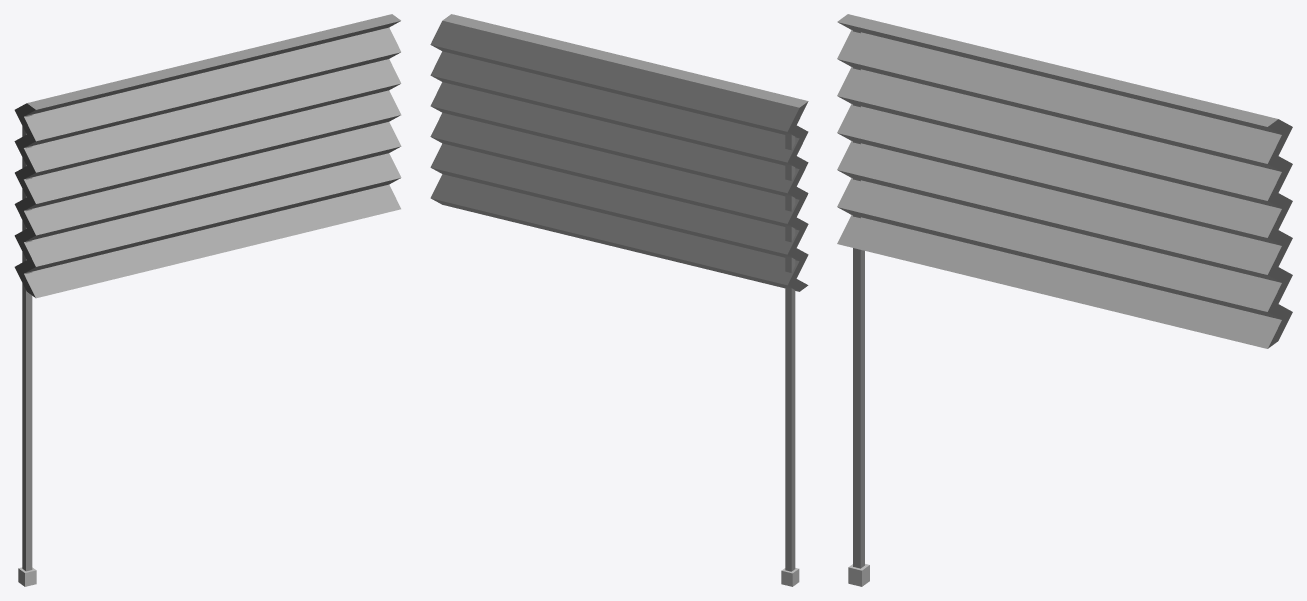
Rendered from SO_WindowBlinds_Small.fbx.
3 views of the same model, side by side, from view 1: azimuth 30°, elevation 25°; view 2: azimuth 150°, elevation 25°; view 3: azimuth 330°, elevation 25° (orthographic). The views are drawn at different scales.
Parts seen in each view (by area): view 1: SO_WindowBlinds_Small; view 2: SO_WindowBlinds_Small; view 3: SO_WindowBlinds_Small.
Part boxes in pixels (left/top/right/bottom): SO_WindowBlinds_Small: left=14, top=14, right=401, bottom=586; SO_WindowBlinds_Small: left=430, top=14, right=808, bottom=586; SO_WindowBlinds_Small: left=837, top=14, right=1292, bottom=586.
Size of the model in its own units: 2.28 by 2.88 by 0.232.
